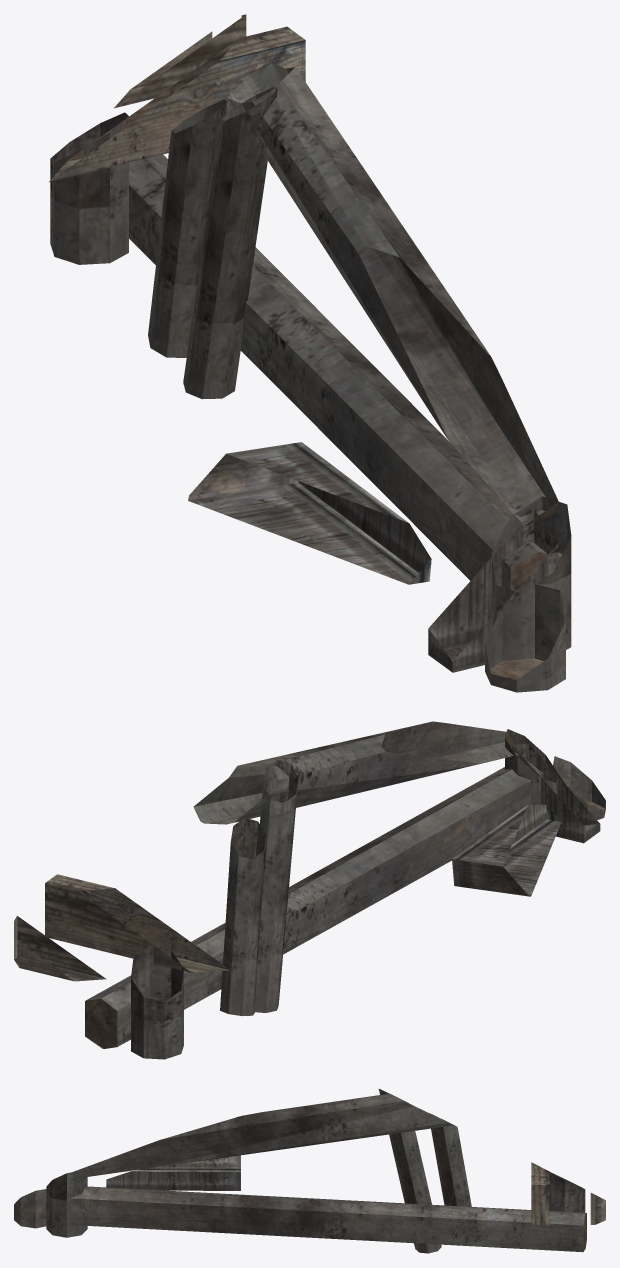
Rendered from Wagon3_23.fbx.
3 renders of one model, top to bottom at view 1: azimuth 30°, elevation 25°; view 2: azimuth 150°, elevation 25°; view 3: azimuth 270°, elevation 25°, orthographic. The views are drawn at different scales.
Parts seen in each view (by area): view 1: SM_Wagon03_DM.023; view 2: SM_Wagon03_DM.023; view 3: SM_Wagon03_DM.023.
Boxes of the visible parts, box(x1,y1,x2,y2) form: SM_Wagon03_DM.023: box(49, 14, 571, 692); SM_Wagon03_DM.023: box(14, 721, 605, 1059); SM_Wagon03_DM.023: box(14, 1089, 605, 1253).
Bounding box in the file's own units: 4464 × 3419 × 11175.
